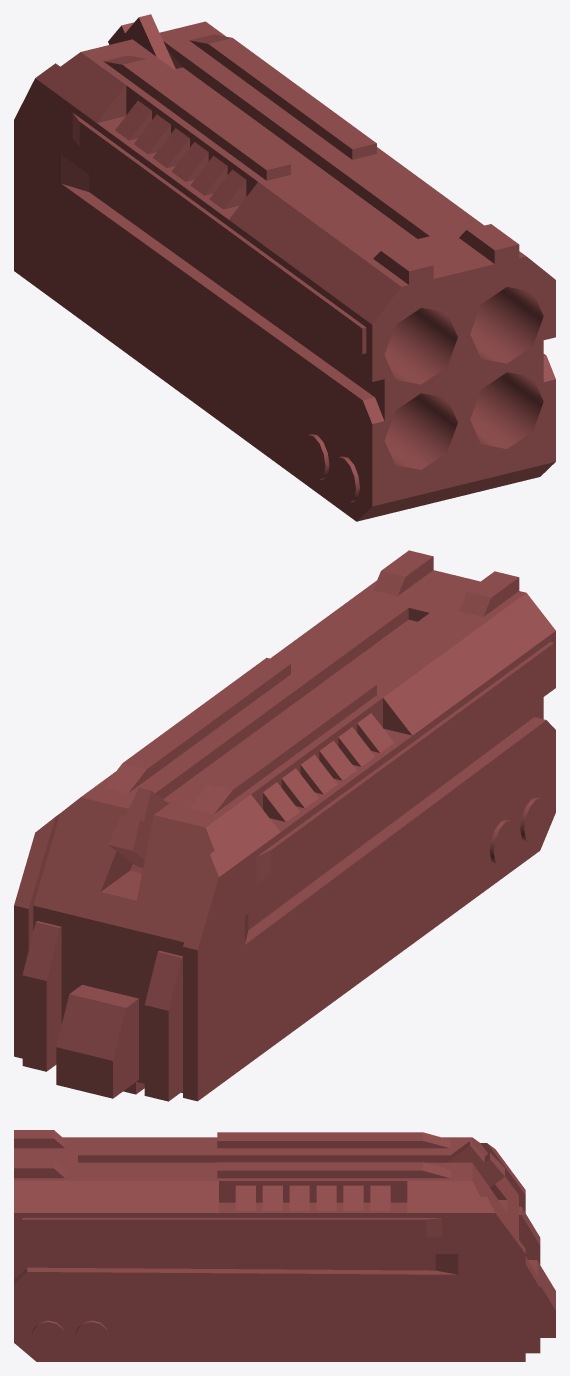
Rendered from WM0_Cannon_x4_LVL3.FBX.
The picture shows the model from 3 angles, top to bottom: view 1: azimuth 30°, elevation 25°; view 2: azimuth 150°, elevation 25°; view 3: azimuth 270°, elevation 25°; orthographic projection. The views are drawn at different scales.
Parts seen in each view (by area): view 1: WM0_Cannon_x4_LVL3; view 2: WM0_Cannon_x4_LVL3; view 3: WM0_Cannon_x4_LVL3.
Boxes of the visible parts, bbox=[...] form: WM0_Cannon_x4_LVL3: bbox=[14, 14, 555, 521]; WM0_Cannon_x4_LVL3: bbox=[14, 550, 555, 1101]; WM0_Cannon_x4_LVL3: bbox=[14, 1130, 555, 1361].
Size of the model in its own units: 11.75 by 16.05 by 40.25.
